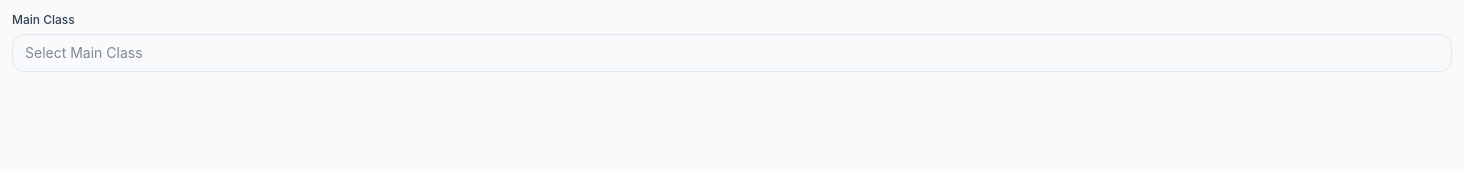
Test case: MainClassSelect › renders empty state
This screenshot has width=1464, height=172.
Focus the field with test id "main-class-input": [732, 53] box [12,34,1452,72]
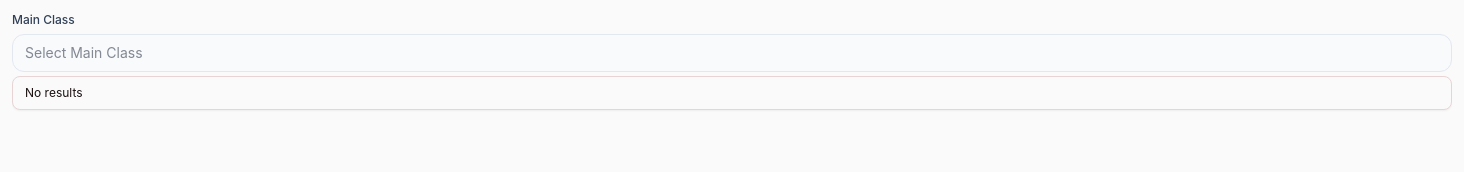
Expected: the list with test id "main-class-options" is shown, [12,76,1452,110]
Expected: the text "No results" is shown, [25,85,83,100]
